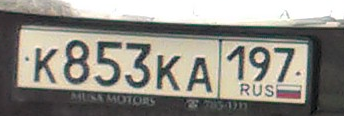character: (94, 37, 124, 89), (124, 41, 153, 90), (62, 40, 91, 86), (184, 56, 214, 97), (31, 46, 60, 87), (155, 53, 182, 95), (248, 43, 272, 84), (273, 43, 296, 84), (226, 44, 247, 84)
